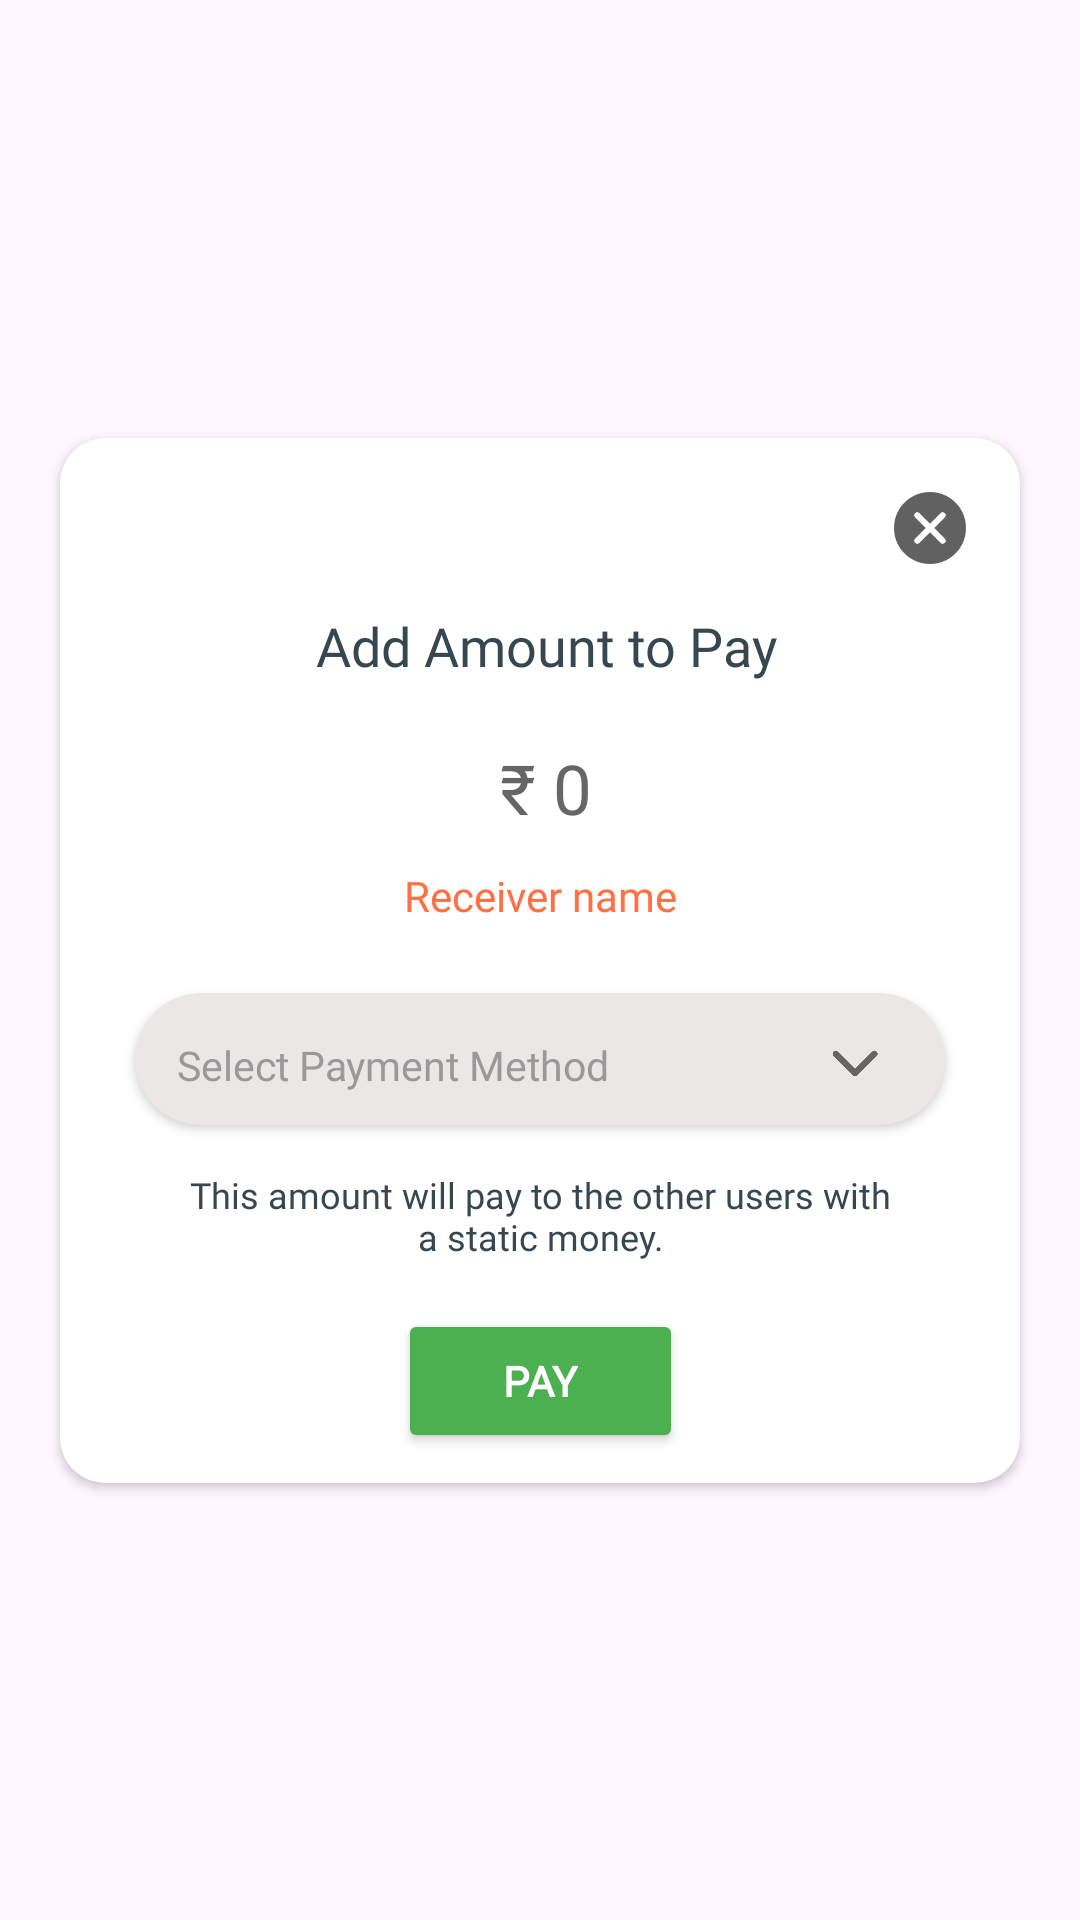

Point at icon controls on the screen. Image size 1080 × 1920, points as [x,y].
arrow down: [855,1063]
cancel: [930,528]
